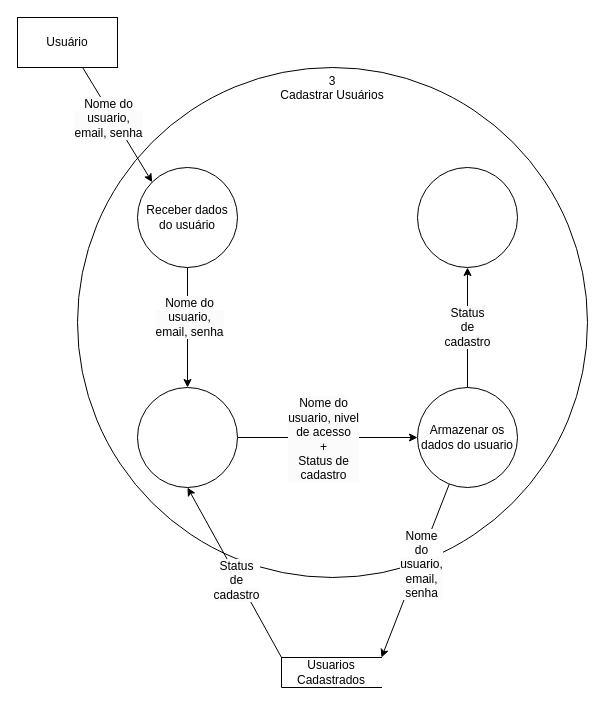
The diagram is 605 pixels wide and 705 high, and some of its shapes have lost their labels. The centre of each missing label's shape, as x and y in pixels:
"Confirmar na tela o cadastro" belongs at pixel 467 217.
"Verificar se usuario já foi cadastrado" belongs at pixel 187 437.
